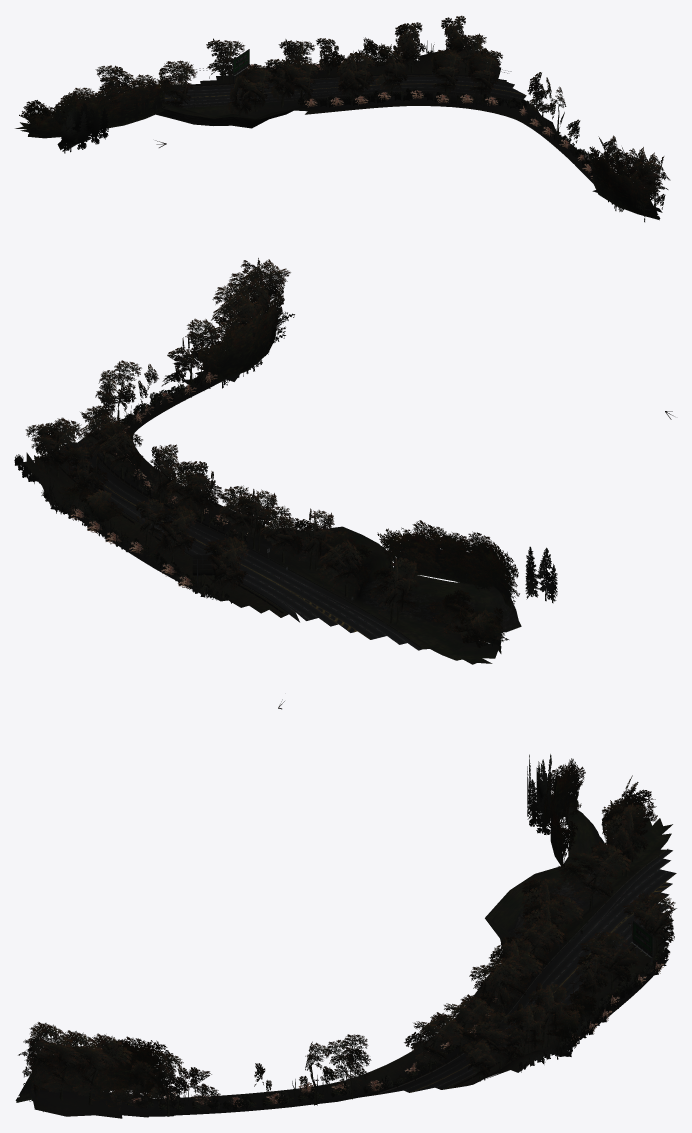
The model's file is cell_9_-10.gltf.
3 views of the same model, one above another, from view 1: azimuth 30°, elevation 25°; view 2: azimuth 150°, elevation 25°; view 3: azimuth 270°, elevation 25° (orthographic). The views are drawn at different scales.
Parts seen in each view (by area): view 1: cell_9_-10; view 2: cell_9_-10; view 3: cell_9_-10.
Part boxes in pixels (x1=…): cell_9_-10: x1=15, y1=15, x2=670, y2=222; cell_9_-10: x1=14, y1=258, x2=674, y2=664; cell_9_-10: x1=15, y1=699, x2=676, y2=1118.
Bounding box in the file's own units: 272 × 70.05 × 267.
41 materials, 41 textured.
